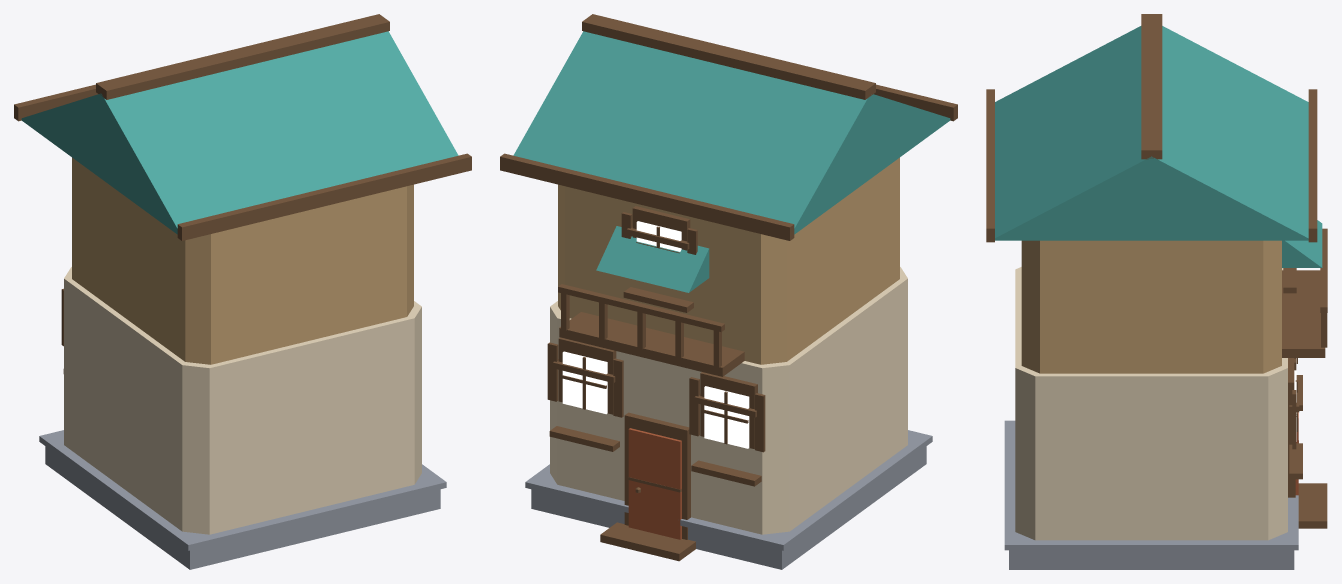
File: xy_house_loft.glb
3 views of the same model, side by side, from view 1: azimuth 30°, elevation 25°; view 2: azimuth 150°, elevation 25°; view 3: azimuth 270°, elevation 25° (orthographic).
Parts seen in each view (by area): view 1: House; view 2: House; view 3: House.
Part boxes in pixels (x1,y1,x2,y2): House: [14, 14, 471, 569]; House: [500, 14, 957, 569]; House: [986, 14, 1327, 569].
Bounding box in the file's own units: 5.32 × 7.61 × 5.51.
